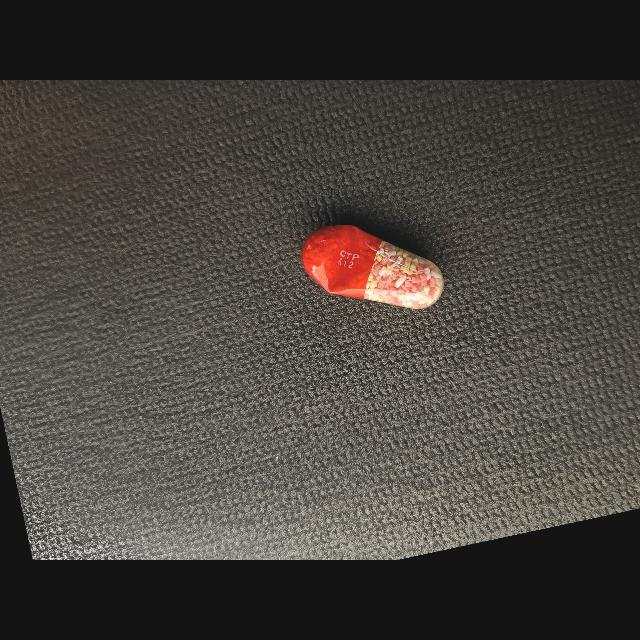Defective Capsule: (303, 225, 444, 309)
